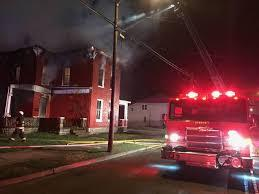smoke: (0, 0, 166, 73)
